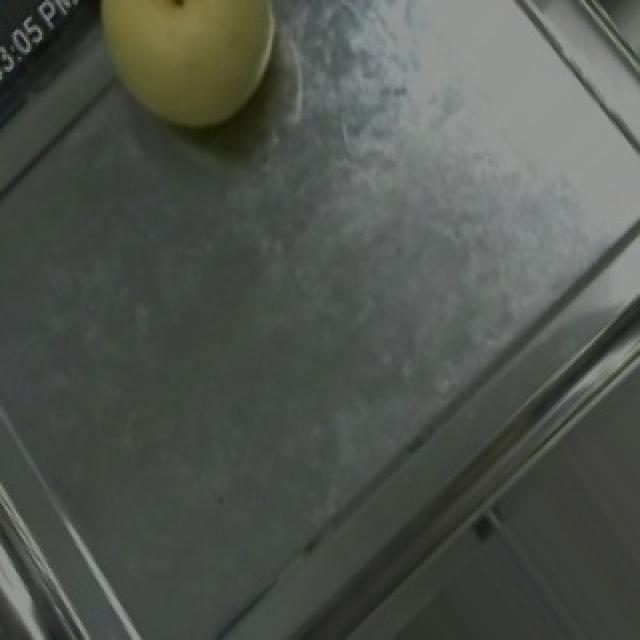Fruit: (60, 0, 314, 166)
